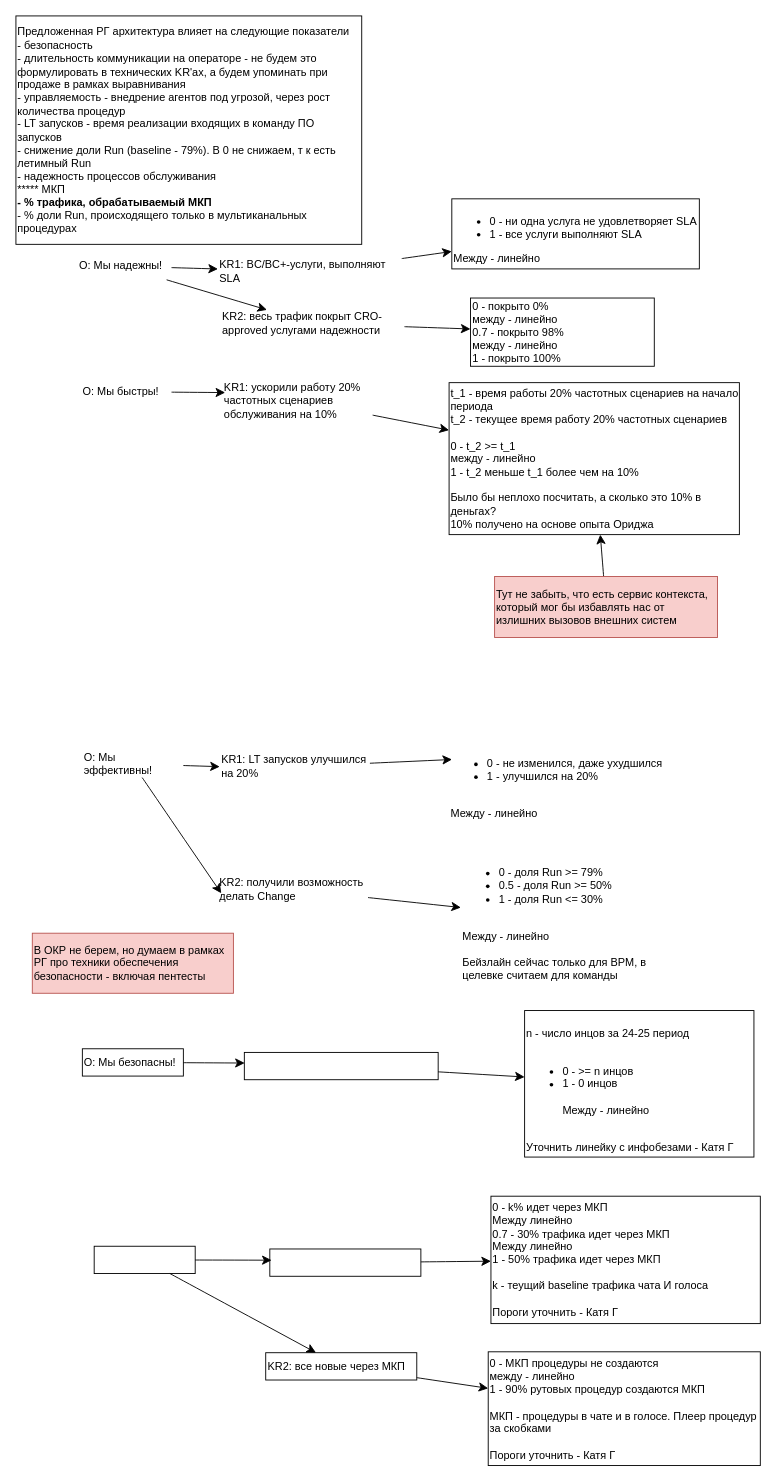
The diagram is 776 pixels wide and 1481 high, and some of its shapes have lost their labels. Here are the shapes that lost their labels. From the top down, the centre of each, then its label:
(340,1066): KR1: не создаем инциденты безопасности
(144,1259): O: Мы мультиканальны
(345,1262): KR1: достаточно трафика проходит через МКП
